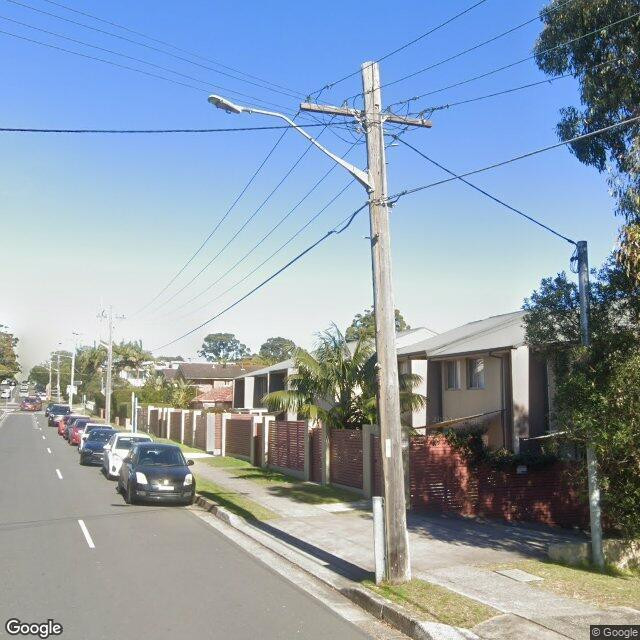crossarm: (299, 100, 433, 130), (96, 312, 124, 320)
steel-pole: (576, 239, 604, 572)
streetlight: (206, 94, 374, 192), (72, 332, 109, 349)
timber-pole: (362, 60, 411, 586), (106, 306, 112, 426), (68, 344, 76, 411), (57, 354, 61, 402), (48, 358, 52, 402)
